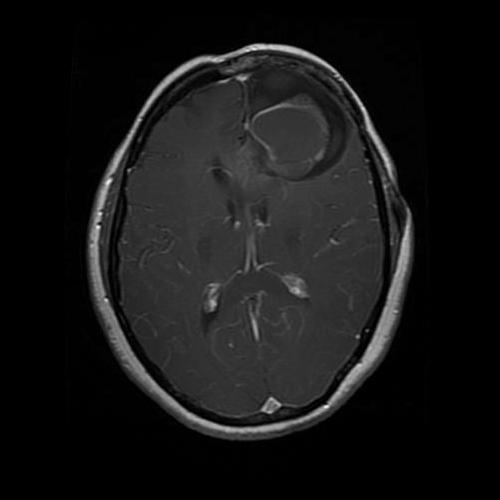Tumour-Glioma: (240, 73, 355, 171)
